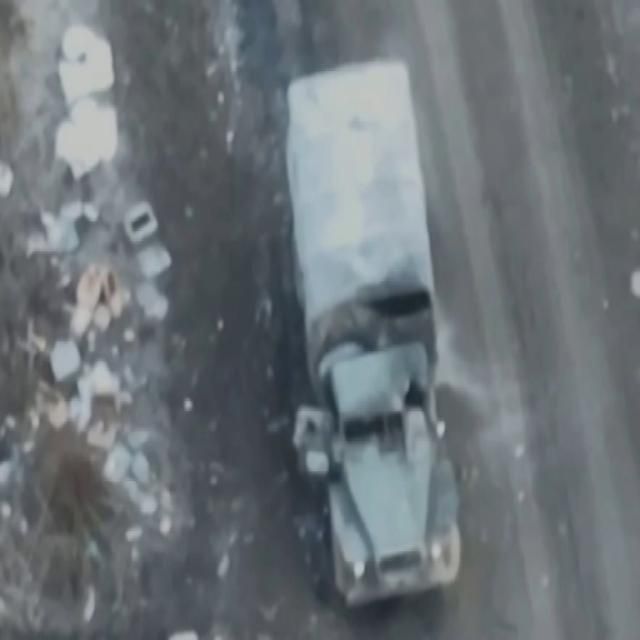TRUCK: (284, 56, 461, 606)
